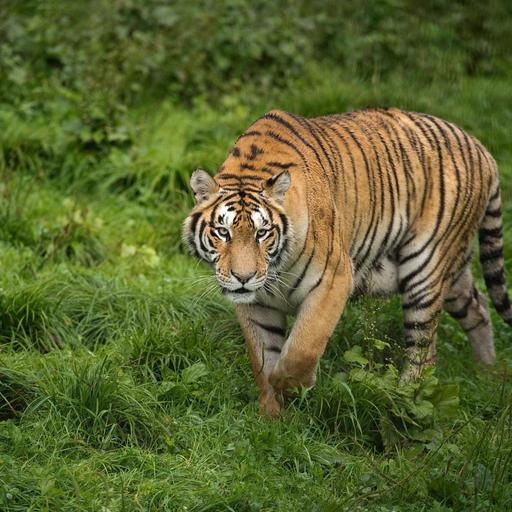Tiger: (180, 97, 512, 449)
